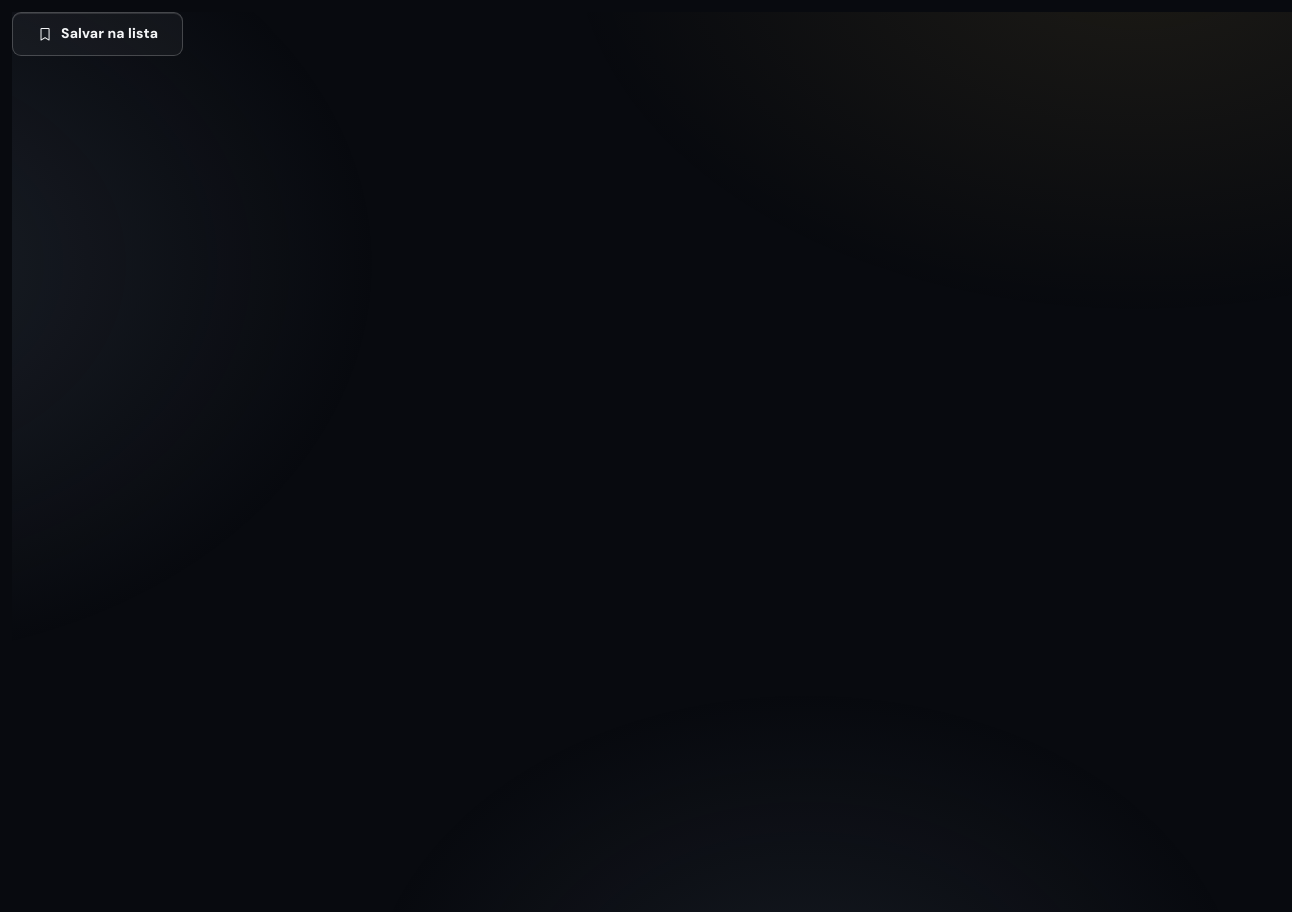
SaveButton › fecha o aviso pelo botão
Click the button "Salvar na lista". click: (98, 34)
box: [12,12,183,56]
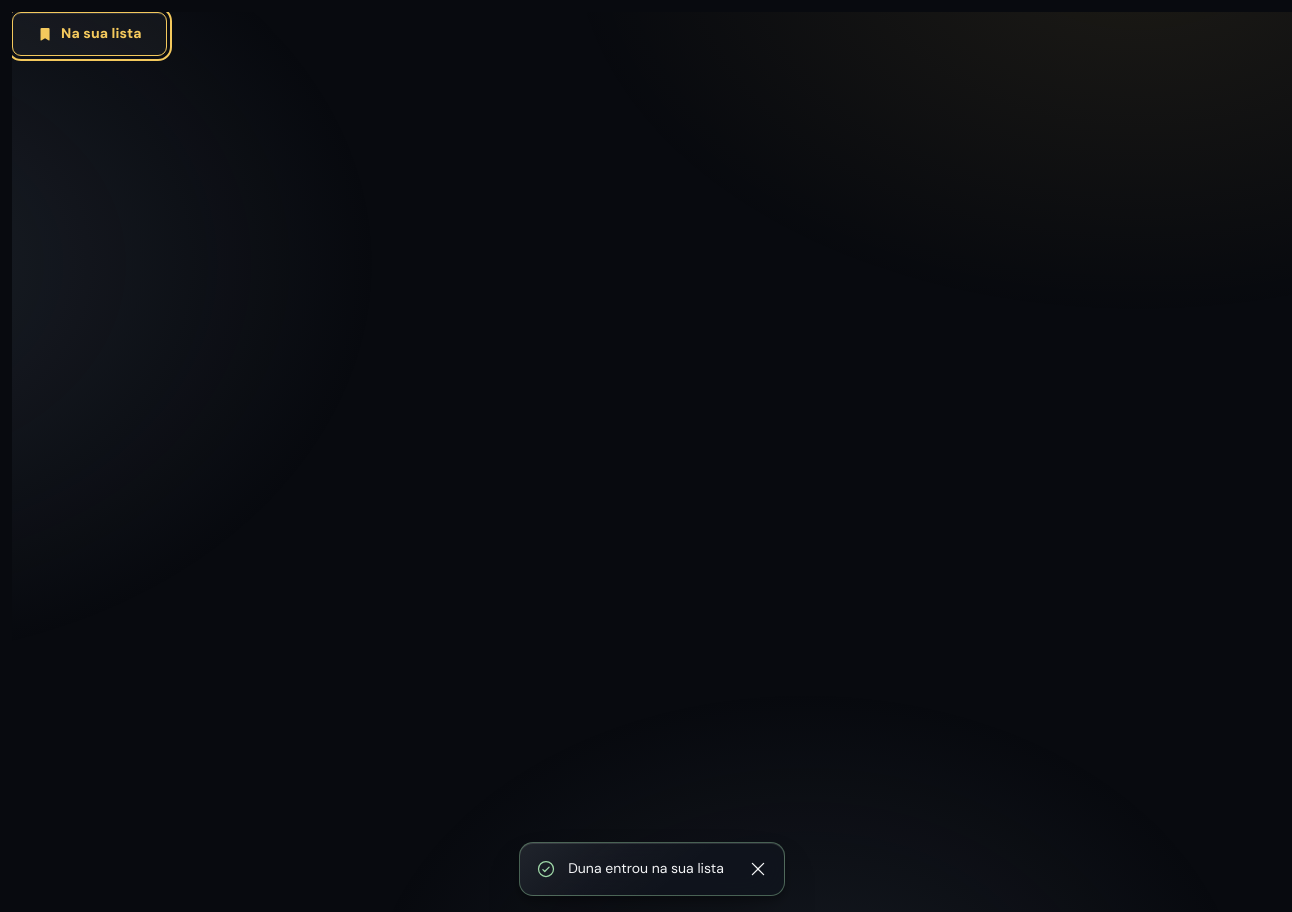
Click the button named "Fechar aviso". click: (758, 869)
box: [736,847,780,891]
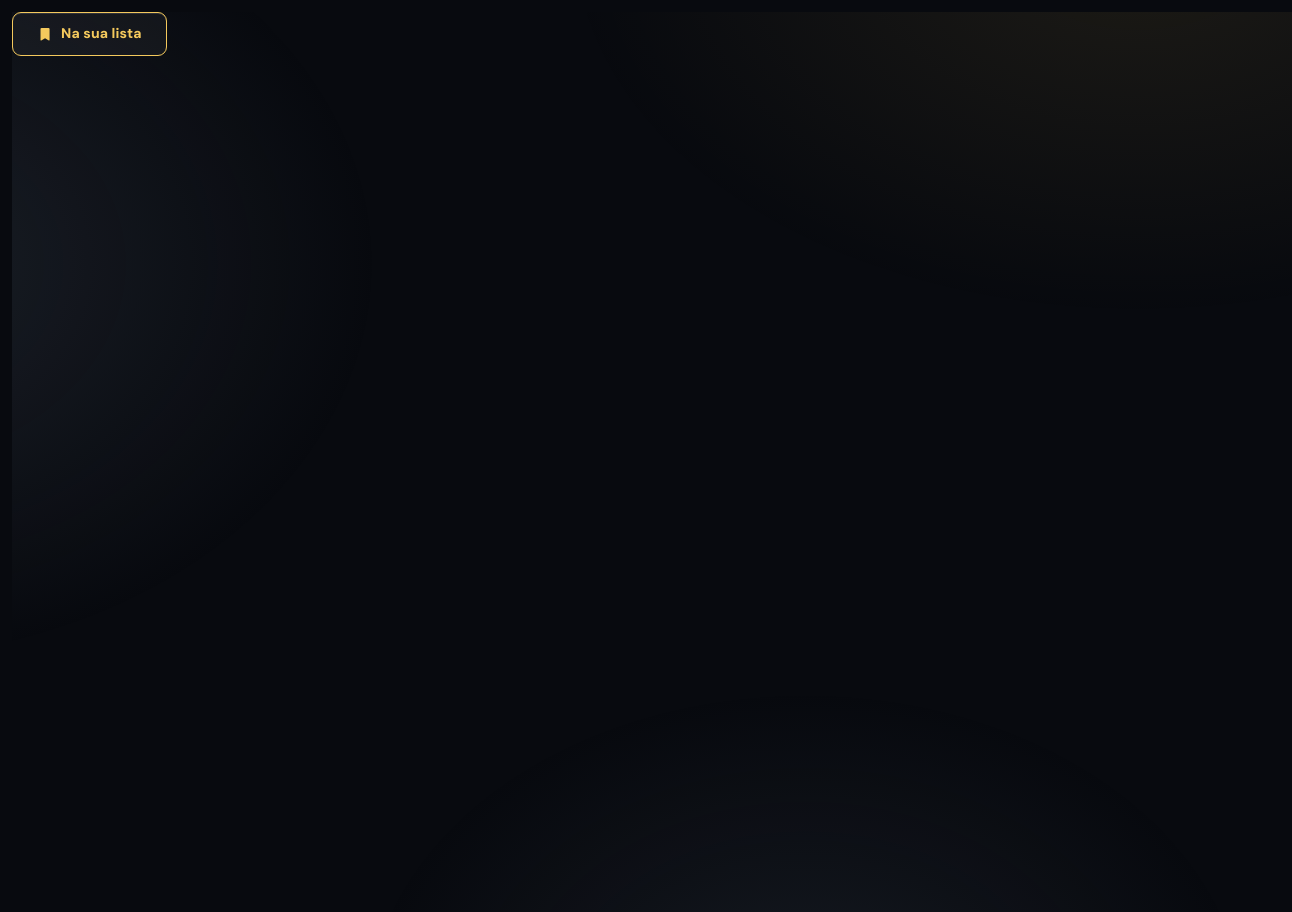
Check: the list item "Duna entrou na sua lista" is gone
